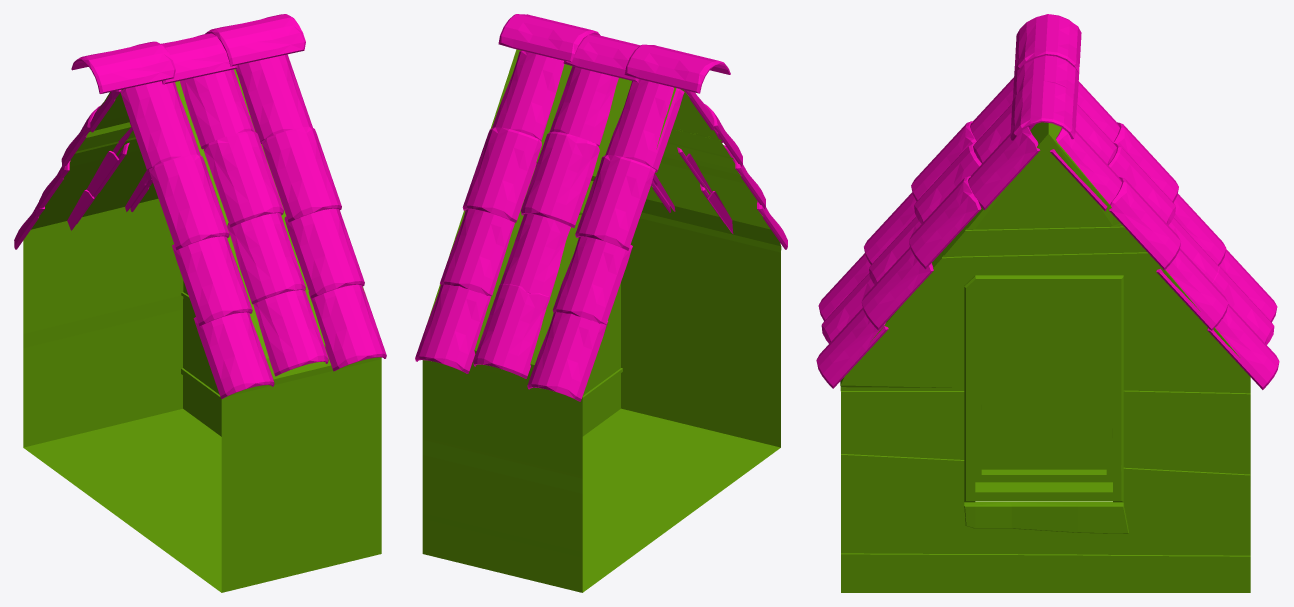
Rendered from fenetre avance.fbx.
3 renders of one model, left to right at view 1: azimuth 30°, elevation 25°; view 2: azimuth 150°, elevation 25°; view 3: azimuth 270°, elevation 25°, orthographic. The views are drawn at different scales.
Parts seen in each view (by area): view 1: fenetre avance; view 2: fenetre avance; view 3: fenetre avance.
Boxes of the visible parts, x1,y1,x2,y2 form: fenetre avance: (14, 14, 386, 592); fenetre avance: (415, 14, 787, 592); fenetre avance: (816, 14, 1279, 592).
Size of the model in its own units: 18.07 by 39.24 by 34.16.
